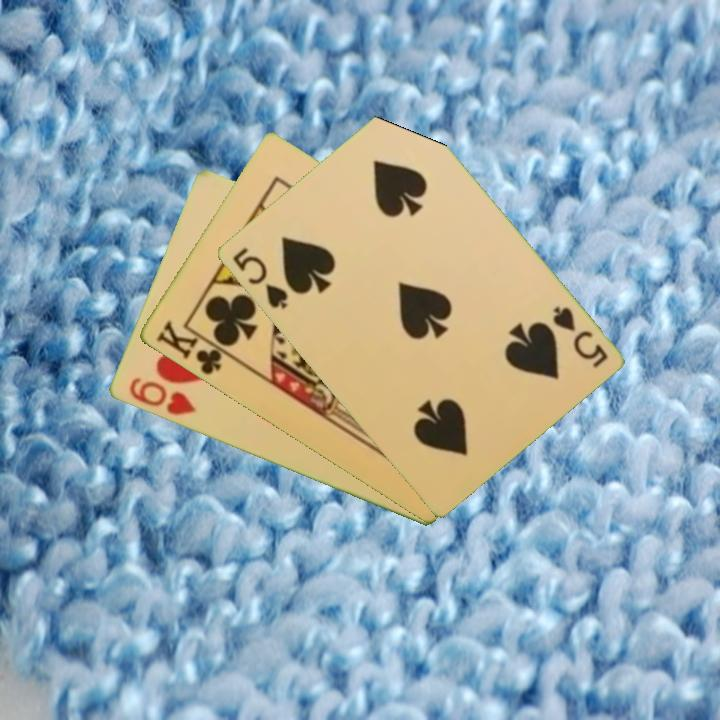5s: (228, 244, 290, 312), (548, 303, 610, 371)
6h: (125, 373, 198, 419)
Kc: (152, 317, 233, 378)
